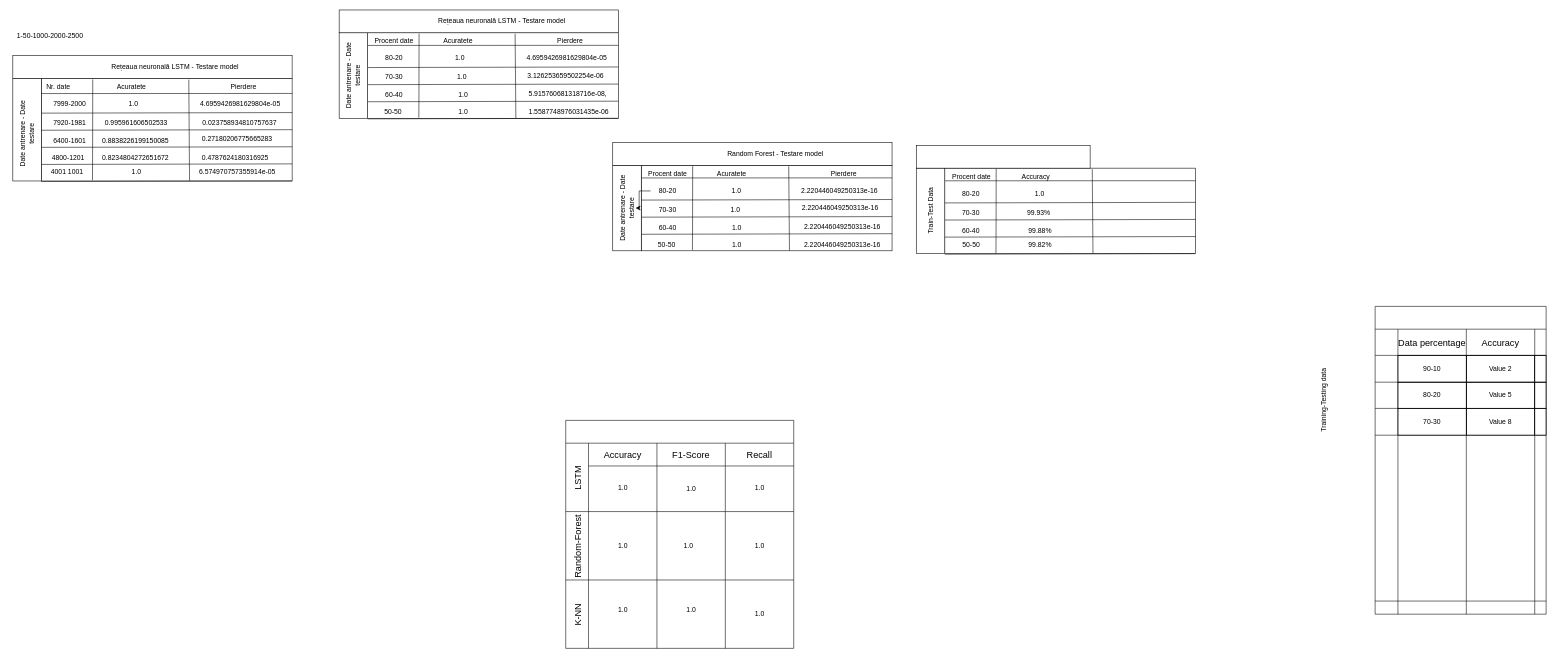
Some shapes in this 1556 by 658 pixel diagram are drawn without their labels. Each missing label, with the box of its shape:
KNN - Testare model: (916, 145, 1090, 168)
Random Forest - Test: (1375, 306, 1546, 614)
Testare: (565, 420, 794, 648)
